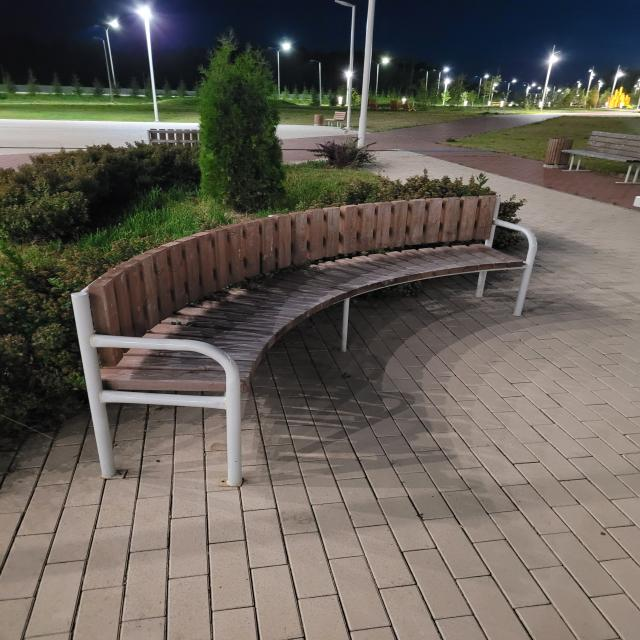Bench: (71, 195, 538, 484)
